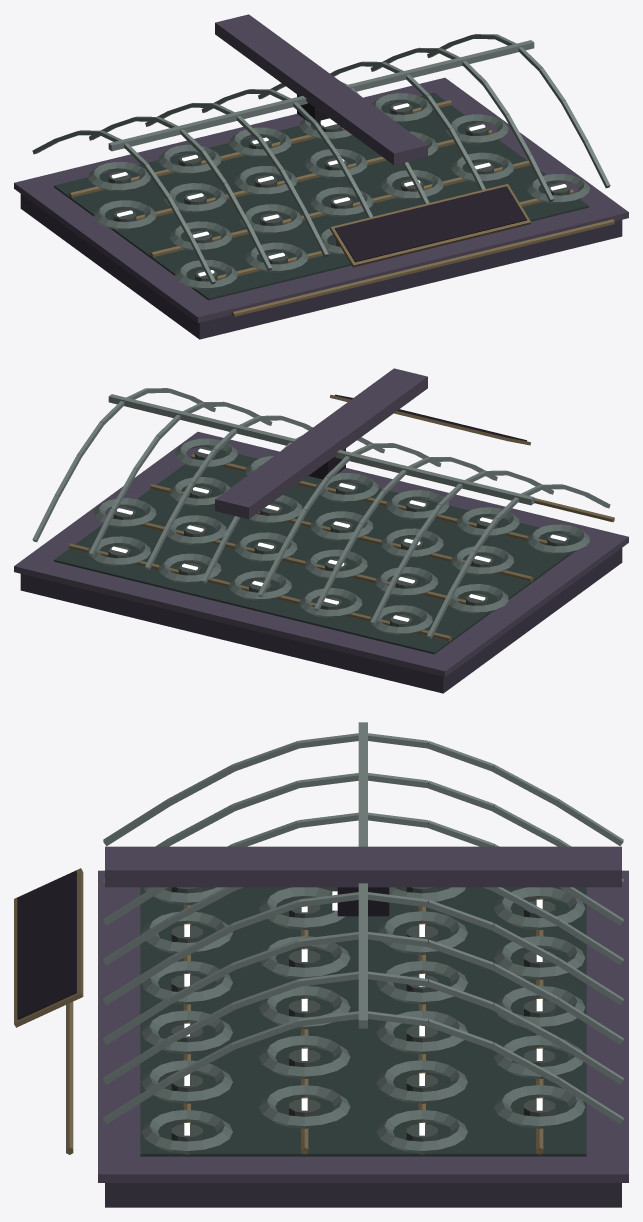
The model's file is la_nursery.glb.
3 views of the same model, one above another, from view 1: azimuth 30°, elevation 25°; view 2: azimuth 150°, elevation 25°; view 3: azimuth 270°, elevation 25° (orthographic). The views are drawn at different scales.
Parts seen in each view (by area): view 1: la_nursery_body, la_nursery_tender_body, la_nursery_lit_emit; view 2: la_nursery_body, la_nursery_tender_body, la_nursery_lit_emit; view 3: la_nursery_body, la_nursery_tender_body, la_nursery_lit_emit.
Boxes of the visible parts, x1,y1,x2,y2 form: la_nursery_body: (14, 34, 628, 339); la_nursery_tender_body: (215, 14, 427, 165); la_nursery_lit_emit: (111, 103, 566, 276); la_nursery_body: (14, 388, 628, 693); la_nursery_tender_body: (215, 368, 427, 519); la_nursery_lit_emit: (111, 448, 566, 621); la_nursery_body: (14, 722, 628, 1207); la_nursery_tender_body: (105, 846, 621, 916); la_nursery_lit_emit: (184, 899, 542, 1135).
Bounding box in the file's own units: 30.6 × 9.4 × 26.17.
